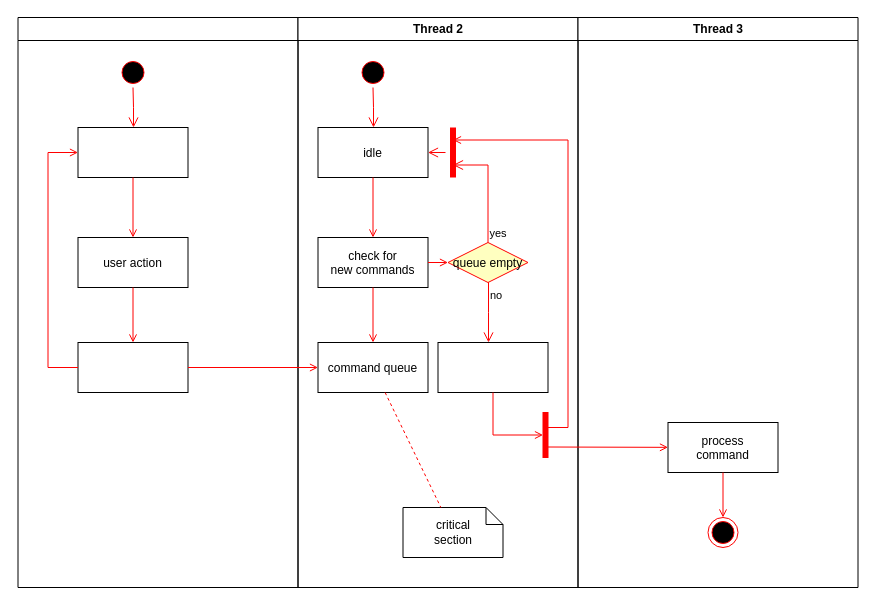
Some shapes in this 875 by 605 pixel diagram are drawn without their labels. The shapes that lost their labels are listed below. From the top down, each one's box as (x1, y1, x2, y2) in pixels, then its label:
(77, 126, 188, 178): Test-1
(17, 16, 298, 588): Thread E2E
(77, 342, 188, 392): post command
(437, 342, 548, 392): dispatch command worker thread
